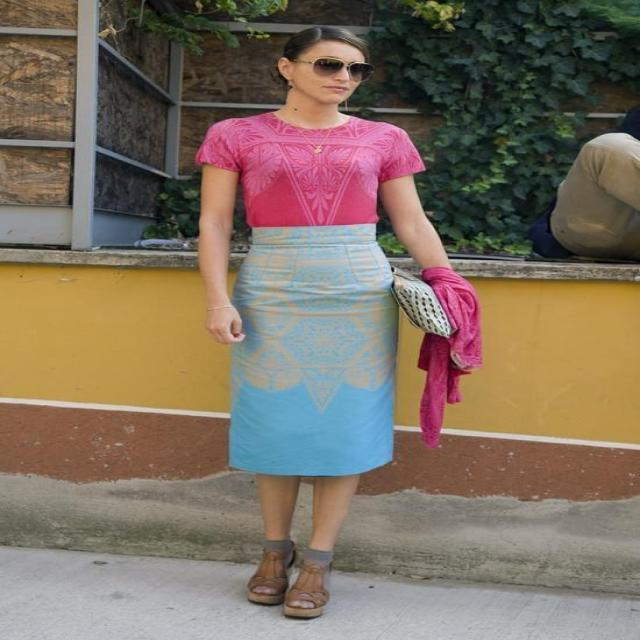Tshirt: (198, 110, 425, 228)
skirt: (227, 224, 400, 476)
